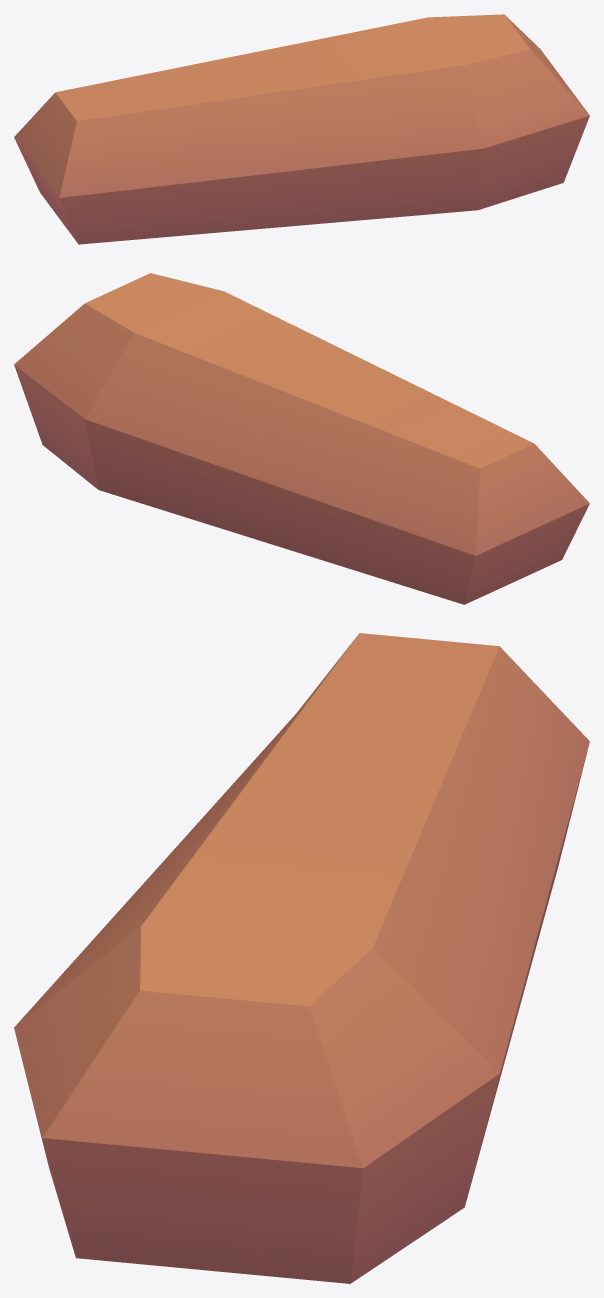
File: village_town_coffin.glb
3 views of the same model, one above another, from view 1: azimuth 30°, elevation 25°; view 2: azimuth 150°, elevation 25°; view 3: azimuth 270°, elevation 25° (orthographic). The views are drawn at different scales.
Parts seen in each view (by area): view 1: Coffin.001_Material.005_0; view 2: Coffin.001_Material.005_0; view 3: Coffin.001_Material.005_0.
Part boxes in pixels (left/top/right/bottom): Coffin.001_Material.005_0: left=14, top=14, right=589, bottom=244; Coffin.001_Material.005_0: left=14, top=273, right=589, bottom=604; Coffin.001_Material.005_0: left=14, top=633, right=589, bottom=1283.
Size of the model in its own units: 2.13 by 0.5148 by 1.07.
1 material, 1 textured.
